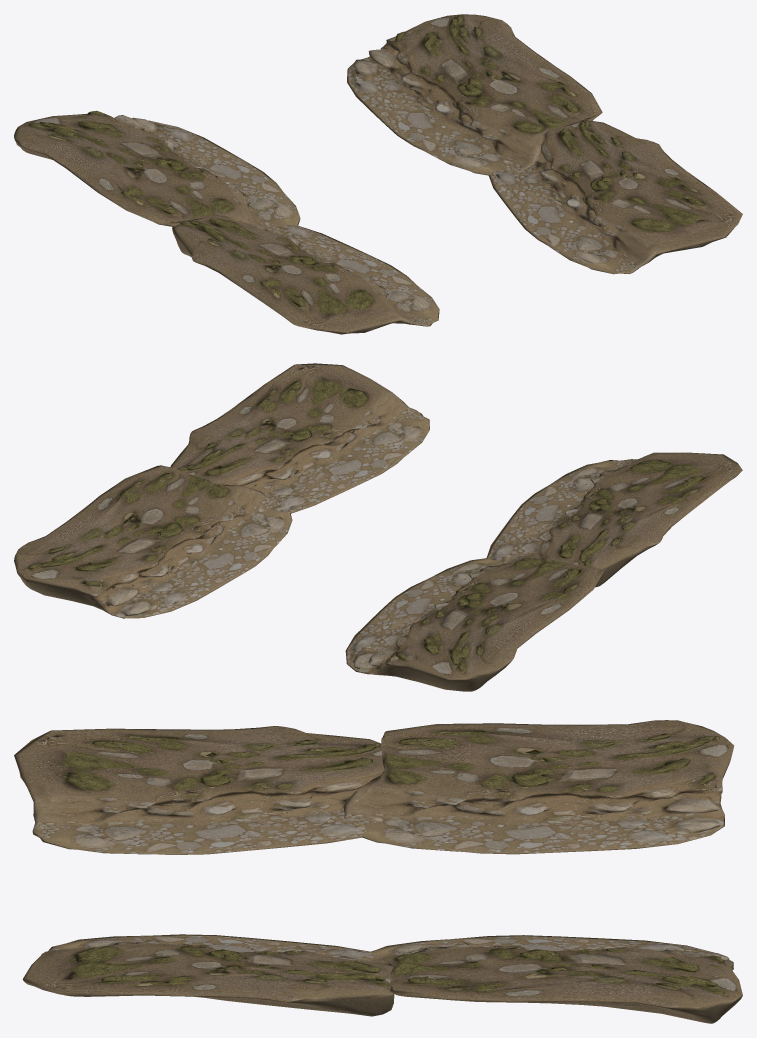
The model's file is bank.glb.
The picture shows the model from 3 angles, top to bottom: view 1: azimuth 30°, elevation 25°; view 2: azimuth 150°, elevation 25°; view 3: azimuth 270°, elevation 25°; orthographic projection. The views are drawn at different scales.
Parts seen in each view (by area): view 1: edge; view 2: edge; view 3: edge.
Boxes of the visible parts, box(x1,y1,x2,y2) form: edge: box(14, 14, 742, 334); edge: box(14, 363, 742, 691); edge: box(14, 720, 742, 1023).
Size of the model in its own units: 3.5 by 0.194 by 3.76.
Materials: 1 (1 with a texture image).
